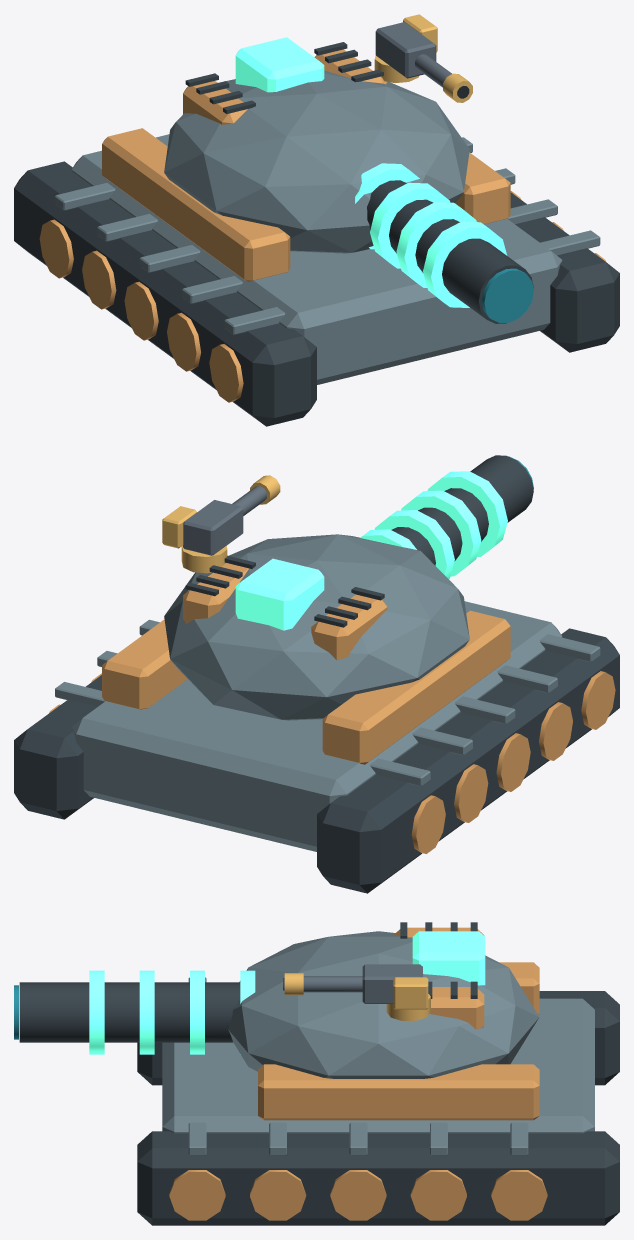
Rendered from boss-laser.glb.
The picture shows the model from 3 angles, top to bottom: view 1: azimuth 30°, elevation 25°; view 2: azimuth 150°, elevation 25°; view 3: azimuth 270°, elevation 25°; orthographic projection. The views are drawn at different scales.
Parts seen in each view (by area): view 1: Laser turret, Lower chassis, Track housing, Road wheel, Cooling coil, Laser emitter, Core, Auxiliary receiver, Focusing lens, Capacitor, Auxiliary swivel; view 2: Lower chassis, Laser turret, Track housing, Road wheel, Cooling coil, Laser emitter, Core, Capacitor, Auxiliary receiver, Auxiliary swivel; view 3: Track housing, Laser turret, Road wheel, Lower chassis, Laser emitter, Cooling coil, Core, Auxiliary receiver, Auxiliary swivel, Capacitor.
Part boxes in pixels (x1,y1,x2,y2): Laser turret: (164, 70, 469, 253); Lower chassis: (55, 134, 600, 384); Track housing: (14, 161, 619, 426); Road wheel: (39, 128, 606, 402); Cooling coil: (355, 163, 507, 307); Laser emitter: (185, 42, 533, 323); Core: (235, 37, 324, 92); Auxiliary receiver: (375, 22, 451, 87); Focusing lens: (482, 268, 533, 322); Capacitor: (183, 49, 387, 124); Auxiliary swivel: (374, 14, 472, 102); Lower chassis: (55, 601, 600, 851); Laser turret: (164, 534, 469, 720); Track housing: (14, 628, 619, 893); Road wheel: (49, 610, 615, 853); Cooling coil: (360, 471, 507, 578); Laser emitter: (185, 455, 533, 627); Core: (235, 558, 324, 630); Capacitor: (183, 563, 387, 659); Auxiliary receiver: (183, 486, 266, 555); Auxiliary swivel: (162, 475, 280, 573); Track housing: (137, 991, 619, 1225); Laser turret: (228, 931, 539, 1078); Road wheel: (169, 962, 547, 1220); Lower chassis: (162, 977, 594, 1155); Laser emitter: (19, 922, 477, 1042); Cooling coil: (89, 970, 255, 1054); Core: (412, 931, 485, 985); Auxiliary receiver: (303, 964, 422, 1003); Auxiliary swivel: (284, 973, 430, 1020); Capacitor: (394, 927, 484, 1029).
Bounding box in the file's own units: 4.1 × 2.43 × 6.03.
